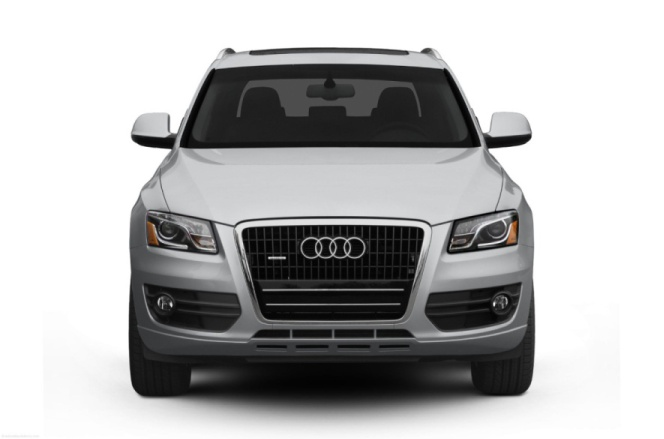audi: (298, 234, 371, 263)
